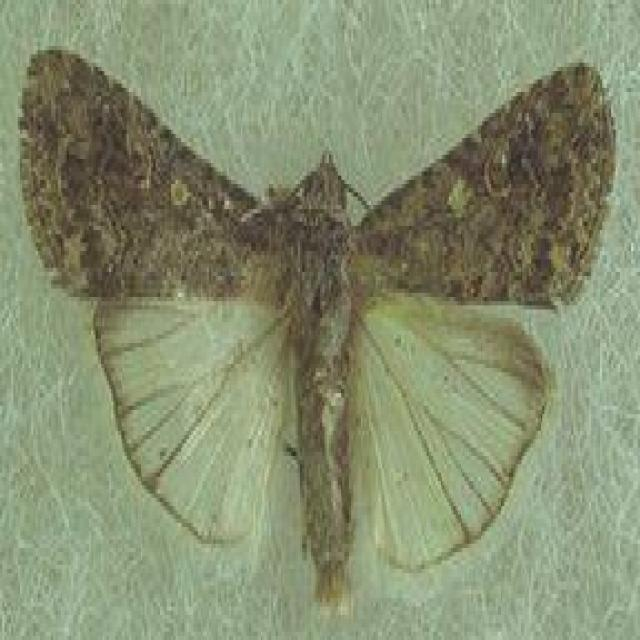BeetArmyWorm-Adult-: (15, 29, 624, 620)
